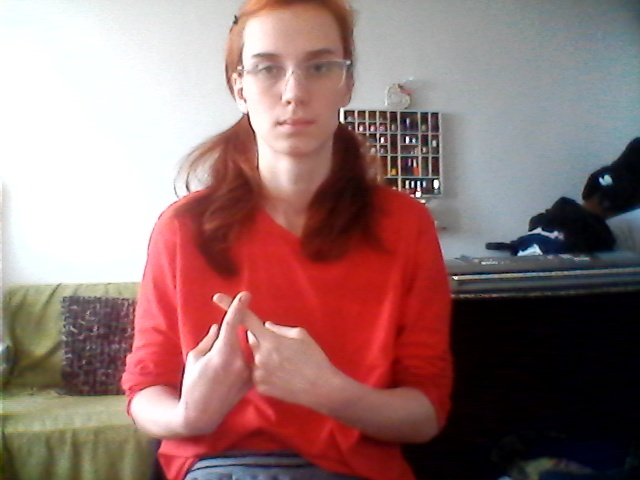x: (166, 275, 344, 441)
